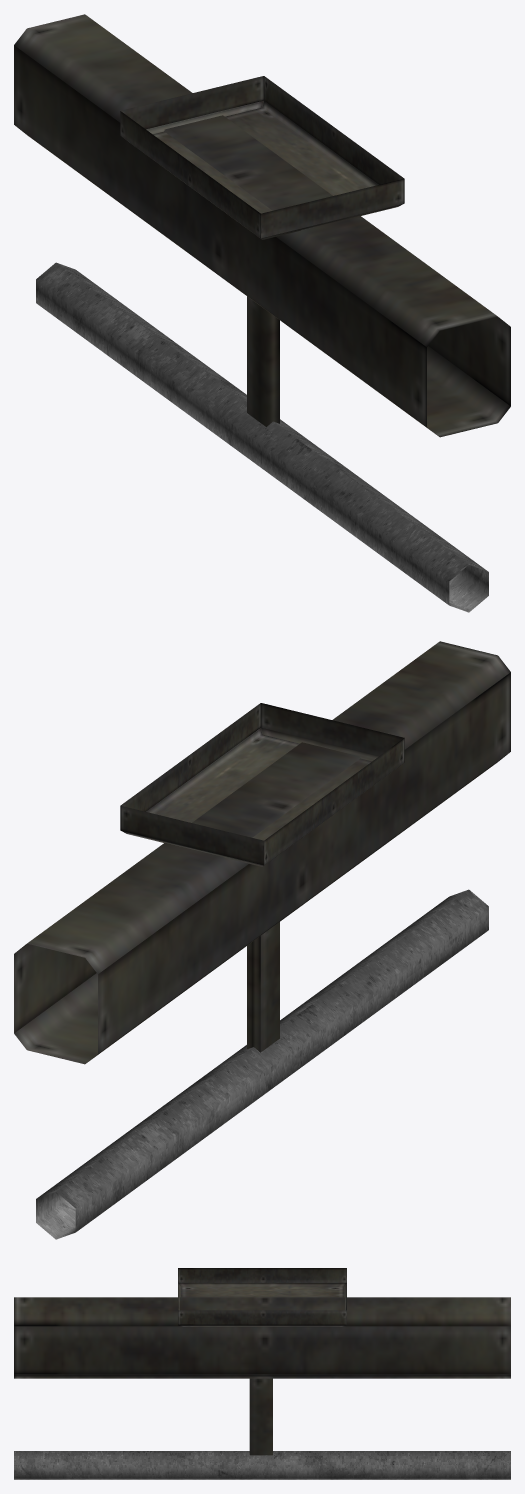
Rendered from railing_ceiling_straight_small.dae.
3 views of the same model, one above another, from view 1: azimuth 30°, elevation 25°; view 2: azimuth 150°, elevation 25°; view 3: azimuth 270°, elevation 25° (orthographic). The views are drawn at different scales.
Parts seen in each view (by area): view 1: polySurface665, polySurface664; view 2: polySurface665, polySurface664; view 3: polySurface665, polySurface664.
Part boxes in pixels (left/top/right/bottom): polySurface665: left=14, top=14, right=510, bottom=437; polySurface664: left=36, top=262, right=488, bottom=612; polySurface665: left=14, top=641, right=510, bottom=1064; polySurface664: left=36, top=889, right=488, bottom=1239; polySurface665: left=14, top=1268, right=510, bottom=1455; polySurface664: left=14, top=1451, right=510, bottom=1479.
Size of the model in its own units: 40.15 by 84.63 by 200.
